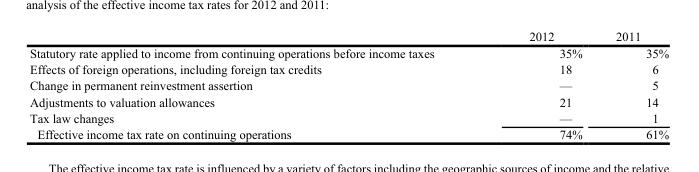table: (29, 29, 668, 140)
table column: (29, 29, 481, 140), (481, 29, 598, 140), (598, 29, 668, 140)
table column header: (29, 29, 668, 44)
table row: (29, 76, 668, 93), (29, 44, 668, 60), (29, 60, 668, 76), (29, 93, 668, 109), (29, 109, 668, 125), (29, 29, 668, 44), (29, 125, 668, 140)
